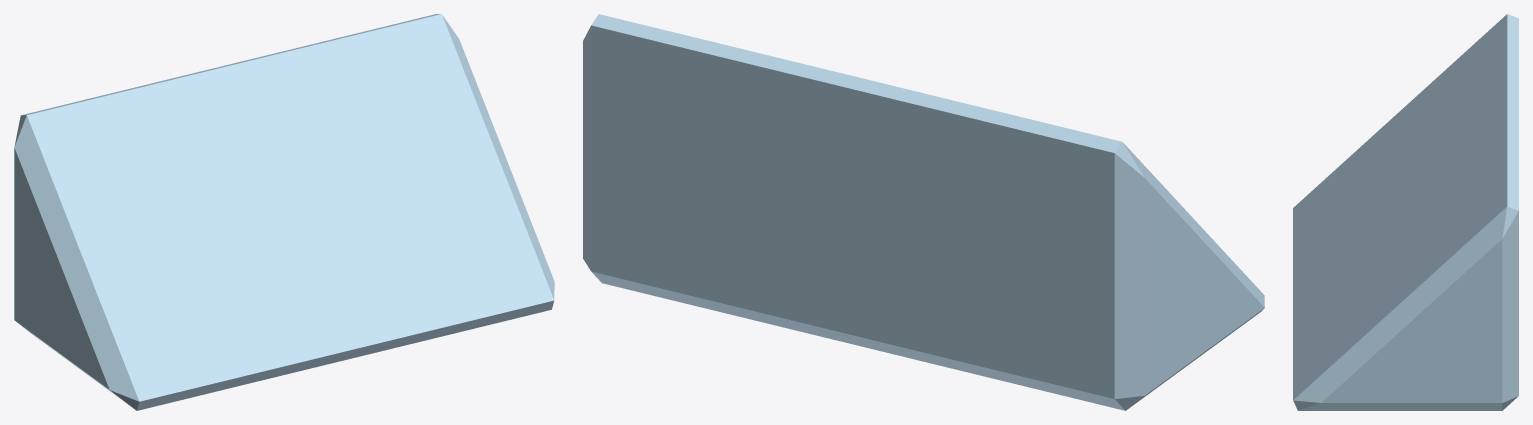
The model's file is R4B_WideWedge.glb.
The picture shows the model from 3 angles, left to right: view 1: azimuth 30°, elevation 25°; view 2: azimuth 150°, elevation 25°; view 3: azimuth 270°, elevation 25°; orthographic projection. The views are drawn at different scales.
Parts seen in each view (by area): view 1: R4B_WideWedge; view 2: R4B_WideWedge; view 3: R4B_WideWedge.
Boxes of the visible parts, x1=… form: R4B_WideWedge: x1=14, y1=14, x2=554, y2=410; R4B_WideWedge: x1=583, y1=14, x2=1264, y2=410; R4B_WideWedge: x1=1293, y1=14, x2=1518, y2=410.
Bounding box in the file's own units: 1.07 × 0.4945 × 0.4945.
